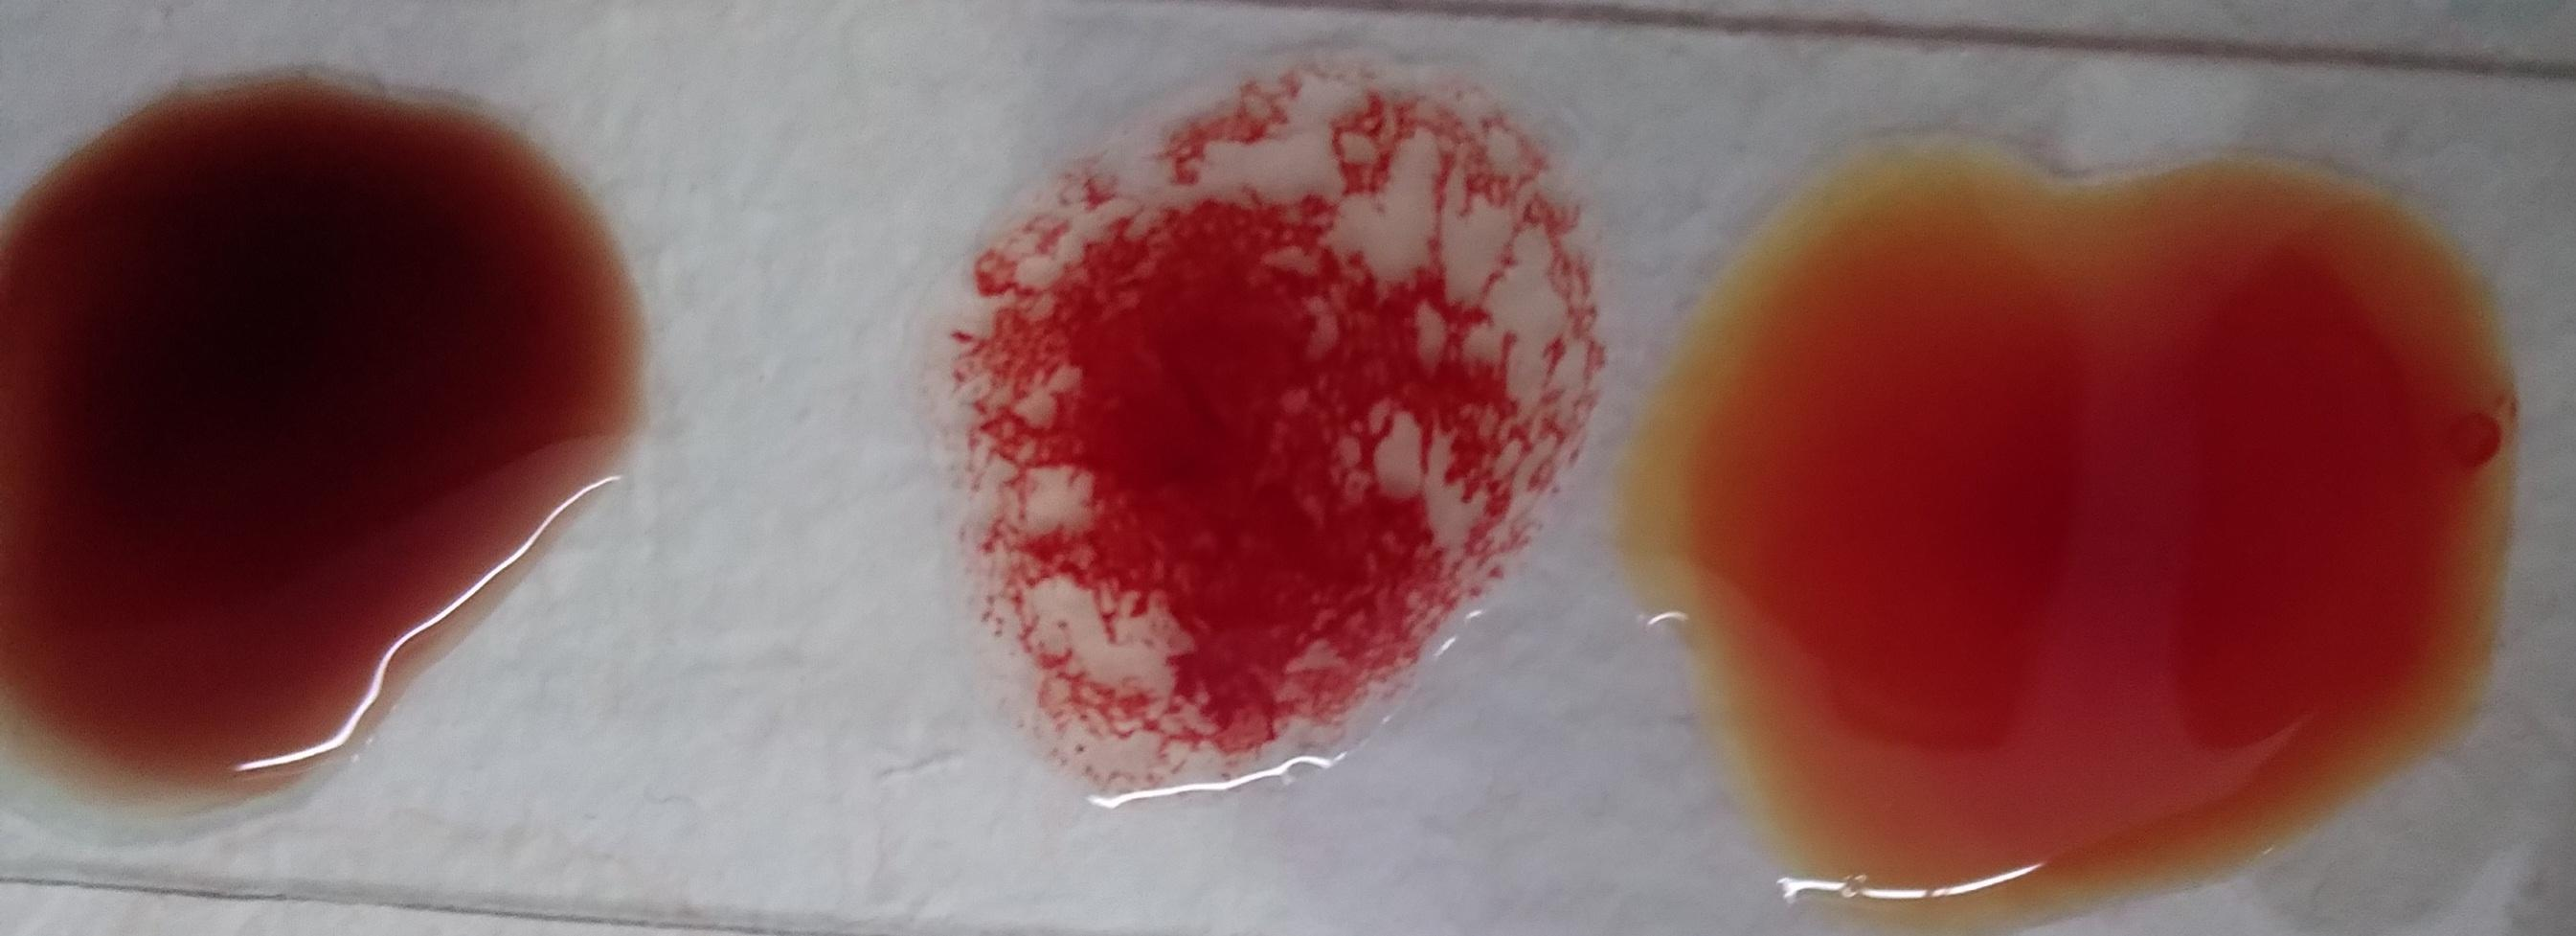D: (979, 146, 1623, 883)
